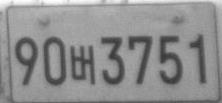0: (42, 35, 67, 86)
1: (186, 33, 212, 84)
3: (100, 36, 125, 85)
5: (158, 34, 183, 85)
7: (127, 34, 153, 84)
9: (13, 35, 39, 85)
버: (69, 44, 96, 85)
